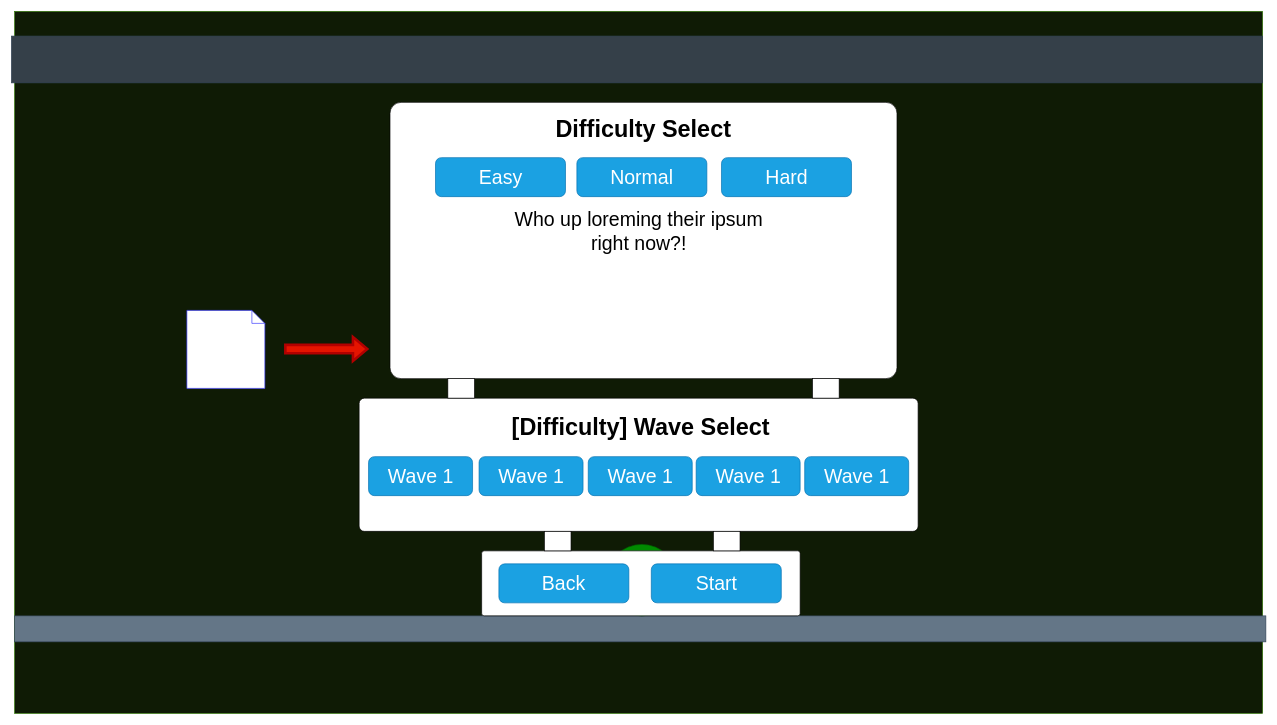
This 1277x725 diagram has some shape labels left out. Here are the shapes that lost their labels. From the top down, the centre of each, then its label:
(637,59): Castle Wall
(225,349): Signs hanging off one another
(640,628): Castle
